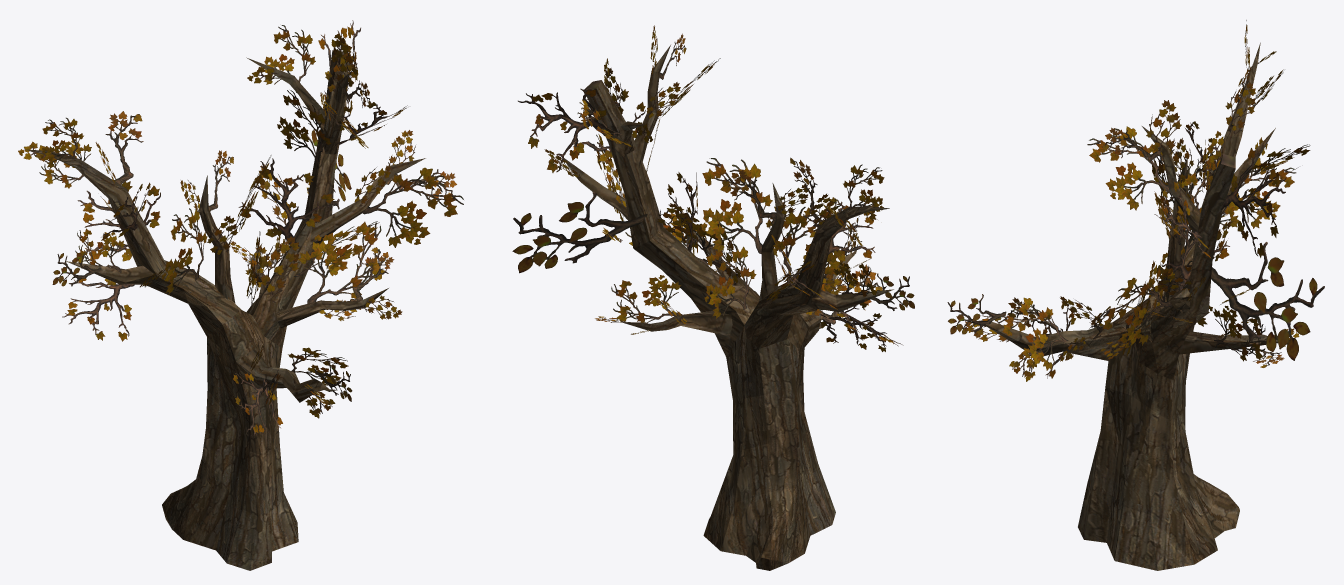
File: zshh_tree04.FBX
The picture shows the model from 3 angles, left to right: view 1: azimuth 30°, elevation 25°; view 2: azimuth 150°, elevation 25°; view 3: azimuth 270°, elevation 25°; orthographic projection. The views are drawn at different scales.
Visible parts, largest first — view 1: kqzd_shu_2, kqzd_shuye_2; view 2: kqzd_shu_2, kqzd_shuye_2; view 3: kqzd_shu_2, kqzd_shuye_2.
Part boxes in pixels (<box>): kqzd_shu_2: <box>25,51,425,570</box>; kqzd_shuye_2: <box>18,20,463,437</box>; kqzd_shu_2: <box>561,45,893,570</box>; kqzd_shuye_2: <box>512,25,914,351</box>; kqzd_shu_2: <box>969,42,1277,570</box>; kqzd_shuye_2: <box>947,20,1324,381</box>.
Bounding box in the file's own units: 626 × 509 × 732.
